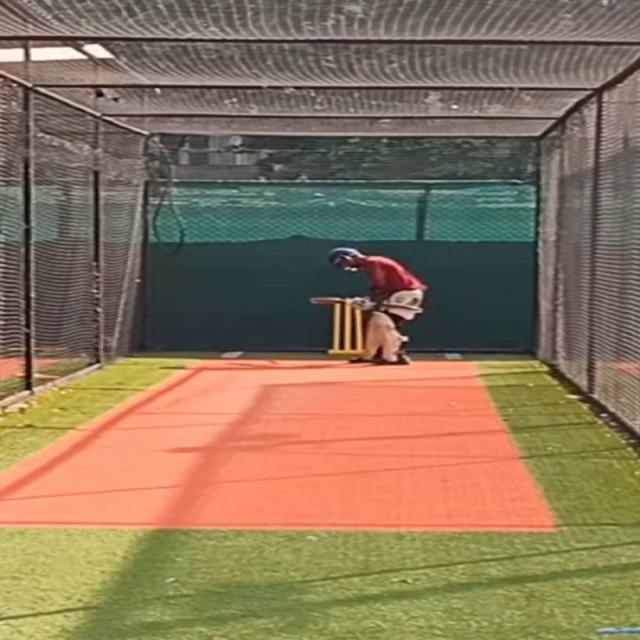stump: (331, 302, 364, 356)
